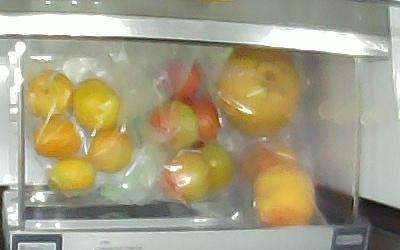peach_vinyl: (253, 165, 315, 227), (240, 142, 296, 178)
pear_vinyl: (218, 45, 300, 136)
tangerine_vinyl: (71, 77, 119, 131), (32, 115, 82, 159), (28, 70, 73, 118), (85, 130, 132, 174), (48, 158, 95, 192)
tomato_vinyl: (159, 147, 212, 203), (150, 100, 198, 149), (157, 58, 201, 103), (196, 145, 233, 189), (190, 98, 220, 146)
